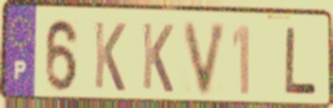1: (231, 23, 252, 97)
6: (44, 17, 80, 94)
K: (140, 20, 176, 96), (92, 19, 128, 95)
L: (283, 25, 320, 97)
V: (181, 20, 231, 99)
